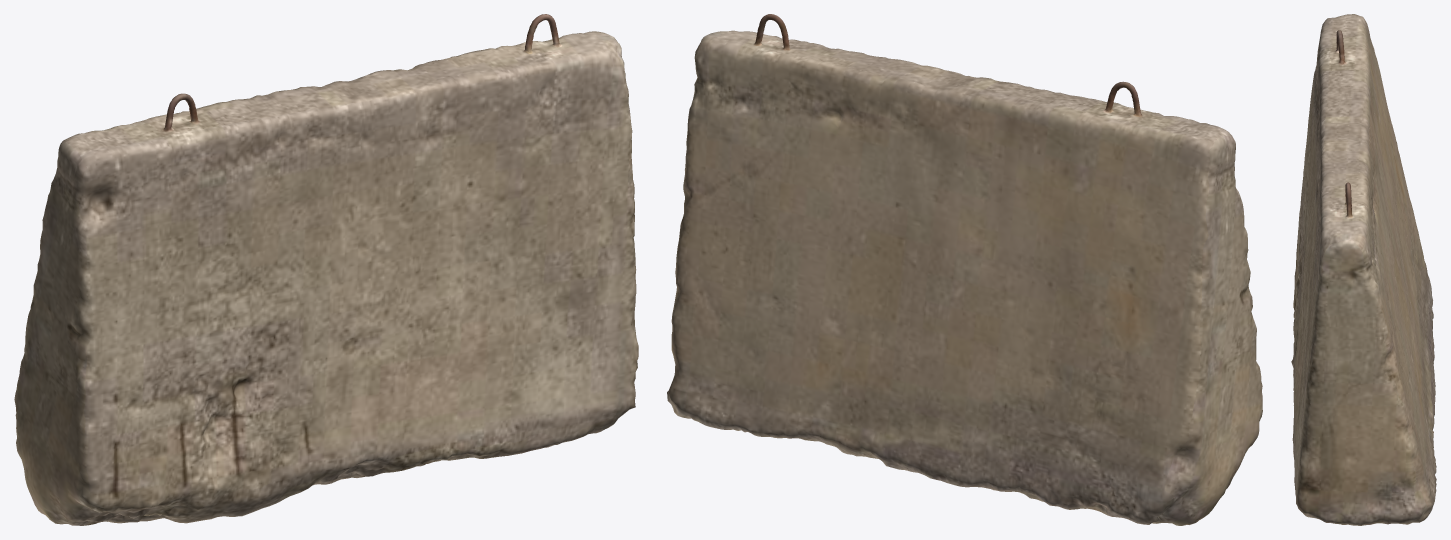
3 renders of one model, left to right at view 1: azimuth 30°, elevation 25°; view 2: azimuth 150°, elevation 25°; view 3: azimuth 270°, elevation 25°, orthographic. The views are drawn at different scales.
Visible parts, largest first — view 1: concrete_road_barrier_02; view 2: concrete_road_barrier_02; view 3: concrete_road_barrier_02.
Boxes of the visible parts, left/top/right/bottom form: concrete_road_barrier_02: left=14, top=14, right=638, bottom=525; concrete_road_barrier_02: left=667, top=14, right=1262, bottom=525; concrete_road_barrier_02: left=1291, top=14, right=1436, bottom=525.
Size of the model in its own units: 1.57 by 1.11 by 0.4421.
Materials: 1 (1 with a texture image).
